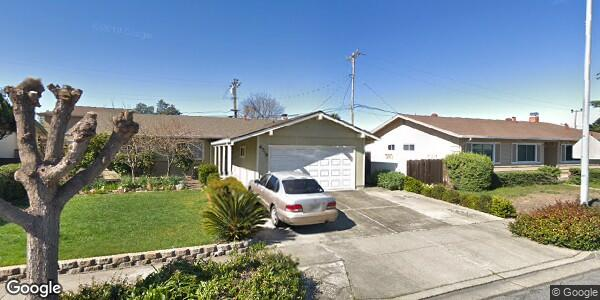Steel_Pole: (577, 1, 597, 207)
Wood_Pole: (344, 46, 365, 127), (228, 74, 244, 118)
